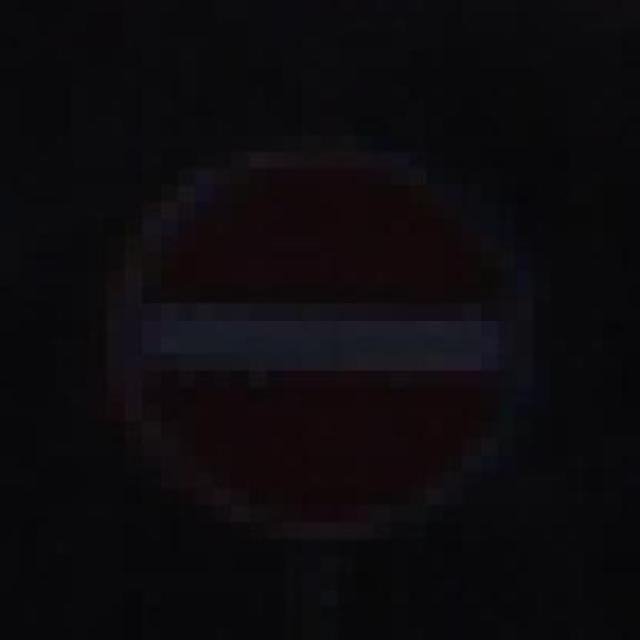No Entry: (87, 100, 567, 572)
